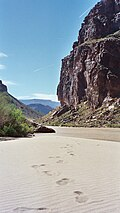human_foot_print: (13, 207, 49, 212), (74, 191, 87, 202), (56, 178, 69, 185), (43, 170, 59, 175)
